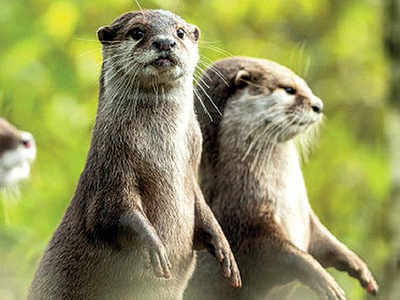otter: (28, 8, 244, 298), (198, 54, 386, 297)
